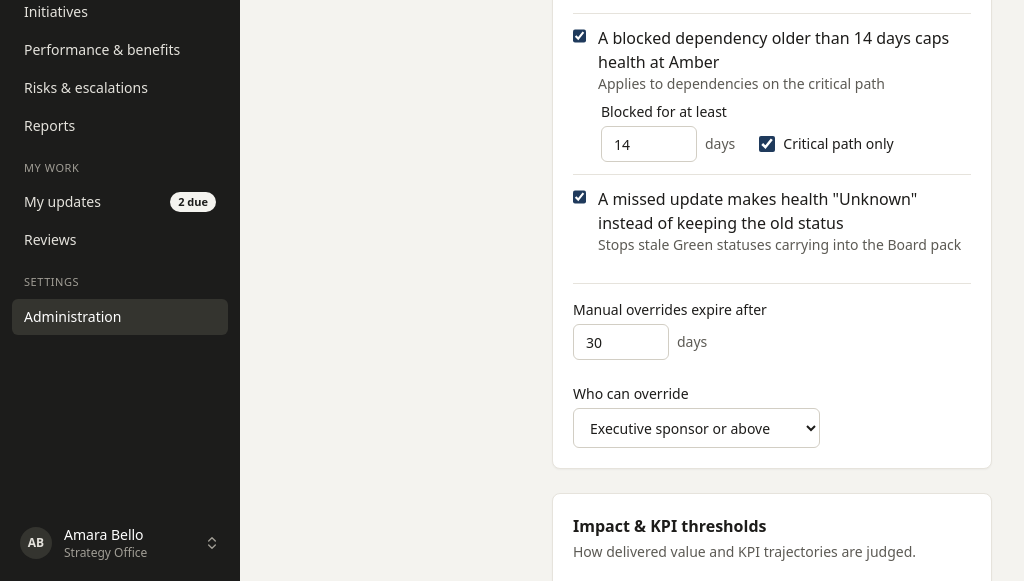
Administration: rules › discards edits back to the live rules
The width and height of the screenshot is (1024, 581).
(page scrolled)
Click the checkbox labelled "A missed update makes health" at (580, 197), box [573, 189, 586, 205]
(page scrolled)
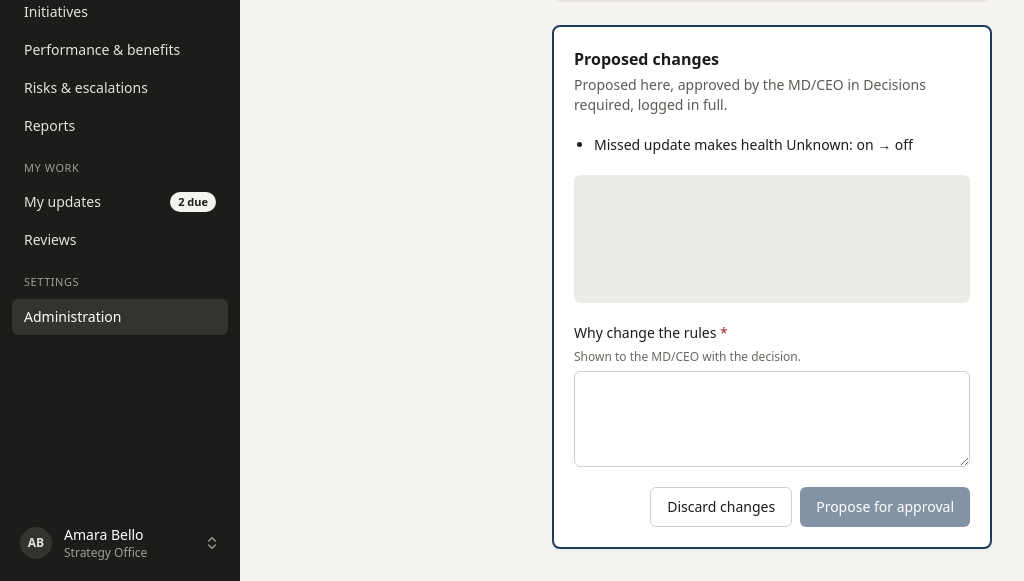
expect the list item "Missed update makes health Unknown: on → off" is shown: met, box [594, 135, 913, 154]
Click the button "Discard changes" at (721, 507), box [650, 487, 792, 527]
(page scrolled)
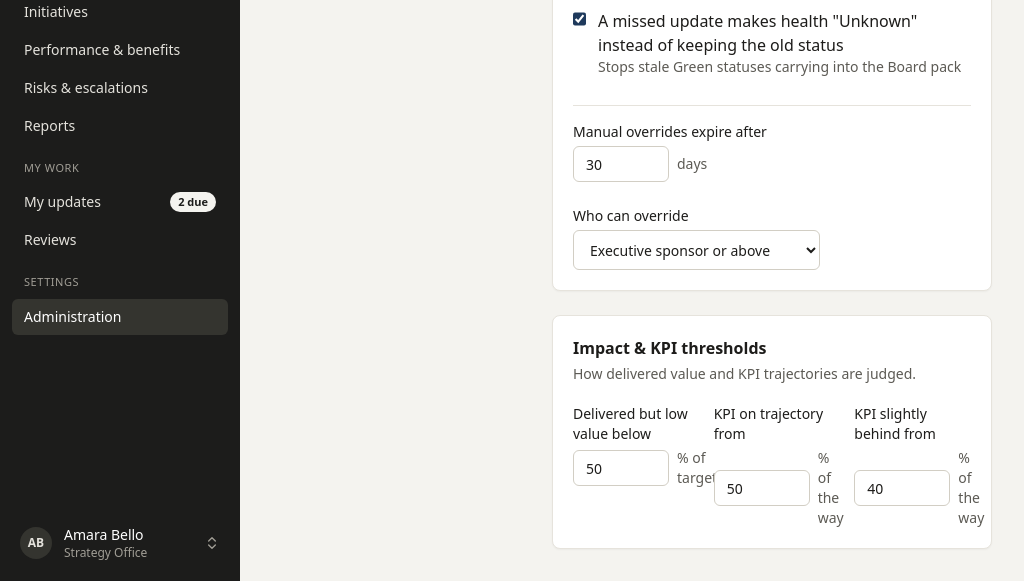
expect the checkbox labelled "A missed update makes health" is checked: met, box [573, 11, 586, 27]
expect the heading "Proposed changes" is gone: met
